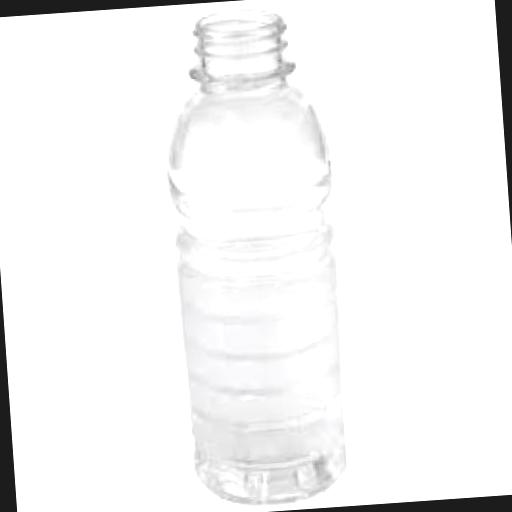plastic: (154, 2, 358, 508)
